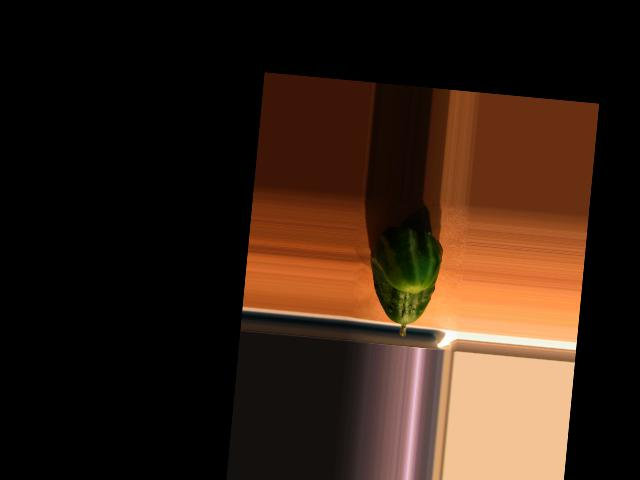cucumber: (364, 224, 445, 339)
